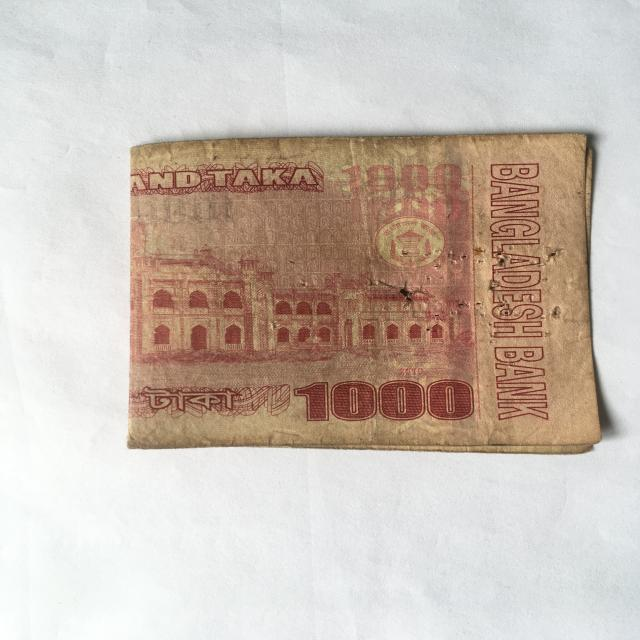Taka: (120, 131, 605, 461)
